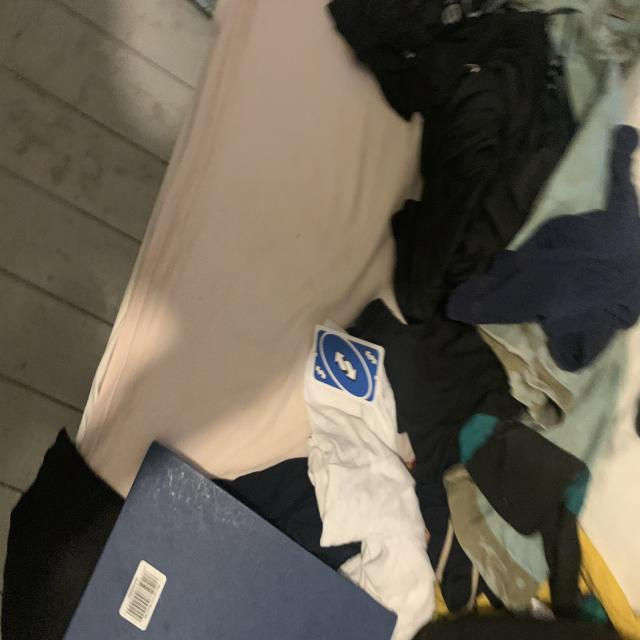lbluerevers-20: (313, 362, 328, 386)
